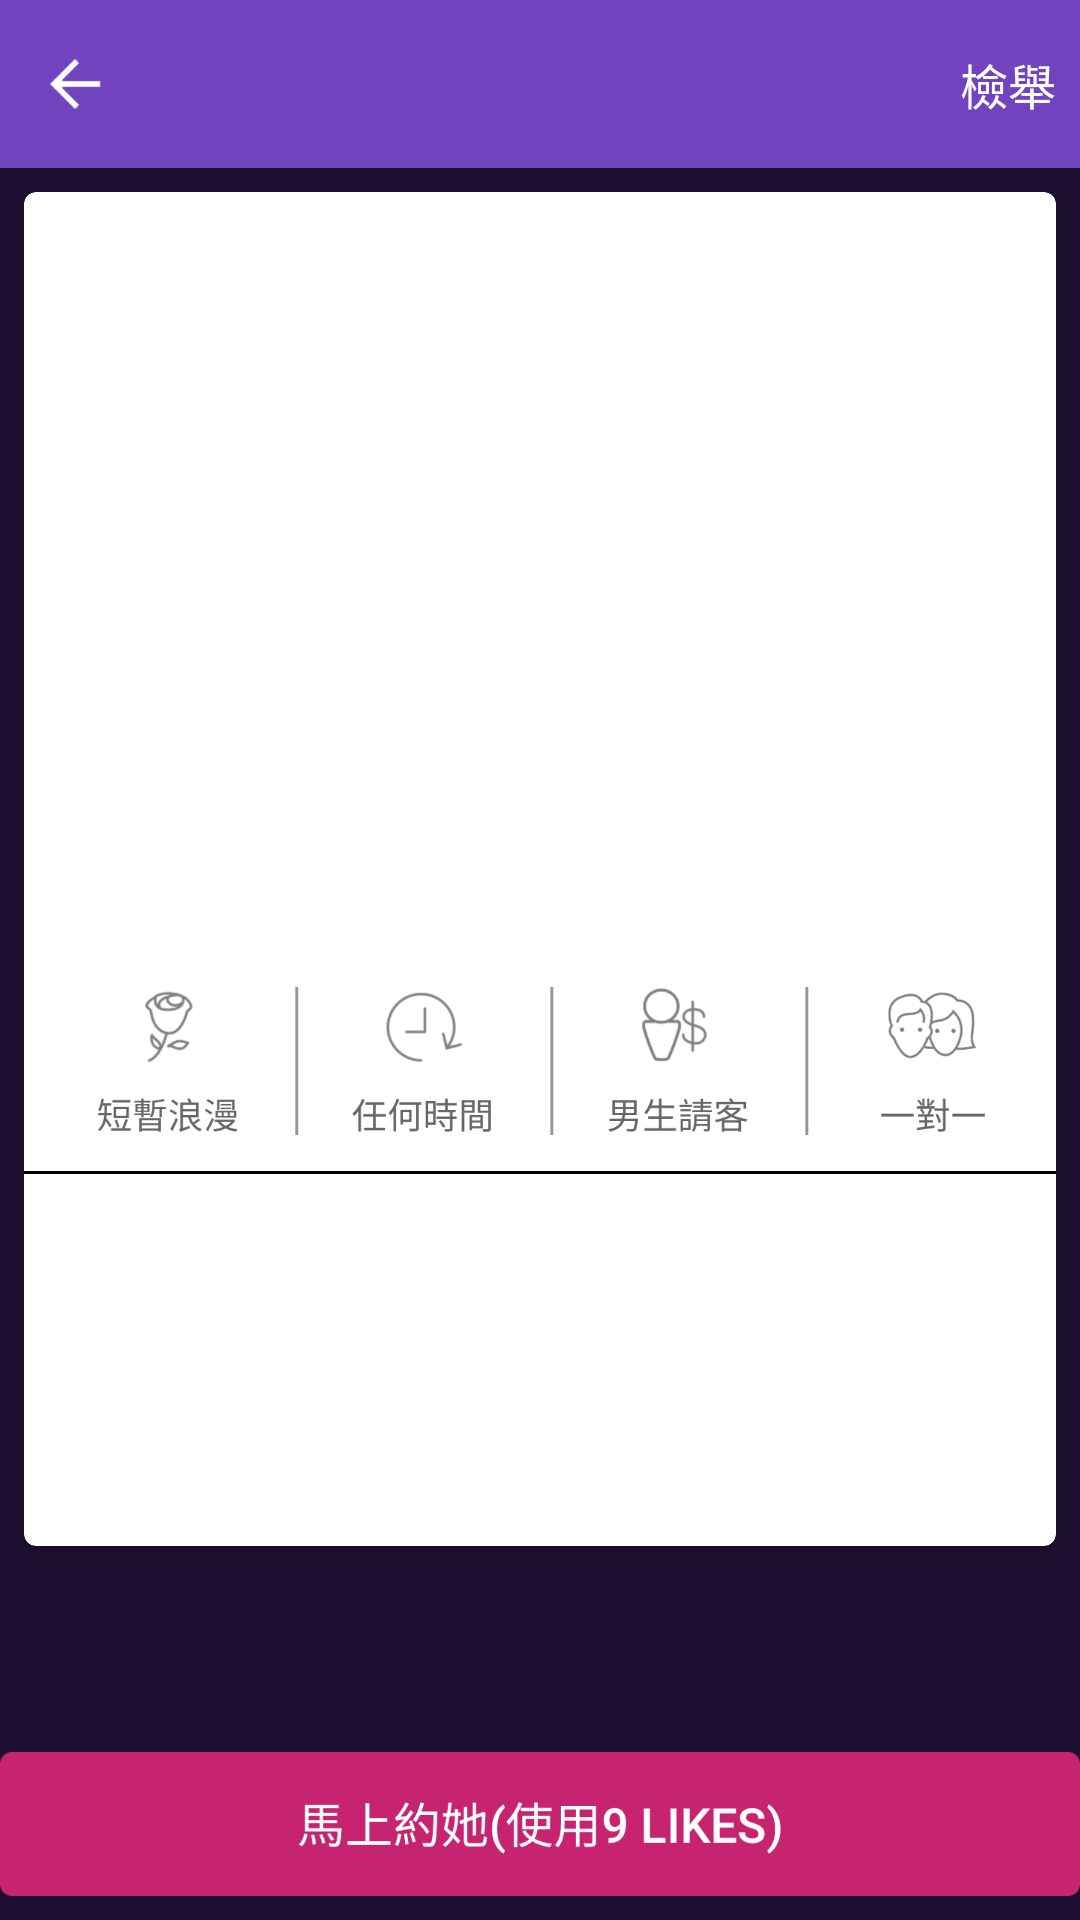

Where to tap for icons on this 1080px×1920px app screen, as (x=x, y=y):
previous page: (x=75, y=84)
